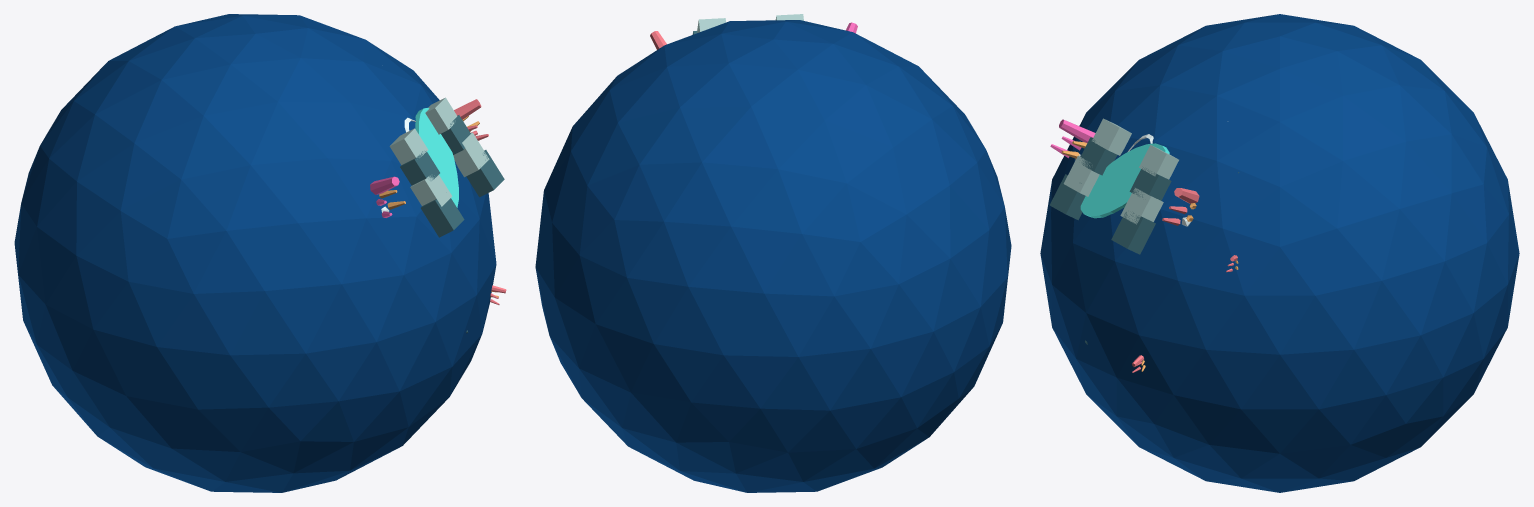
Rendered from Ocean_04.fbx.
The picture shows the model from 3 angles, left to right: view 1: azimuth 30°, elevation 25°; view 2: azimuth 150°, elevation 25°; view 3: azimuth 270°, elevation 25°; orthographic projection.
Visible parts, largest first — view 1: Ocean_04; view 2: Ocean_04; view 3: Ocean_04.
Boxes of the visible parts, bbox=[...] form: Ocean_04: bbox=[14, 14, 506, 492]; Ocean_04: bbox=[535, 14, 1011, 492]; Ocean_04: bbox=[1040, 14, 1519, 492].
Bounding box in the file's own units: 6 × 6 × 6.
Materials: 1 (1 with a texture image).
